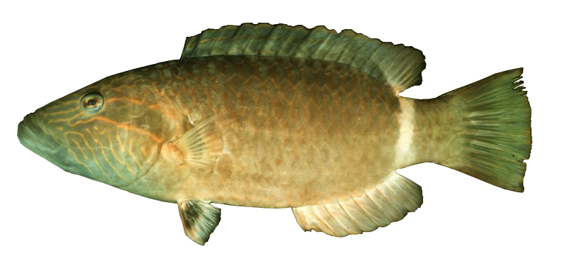fish: (16, 22, 533, 246)
